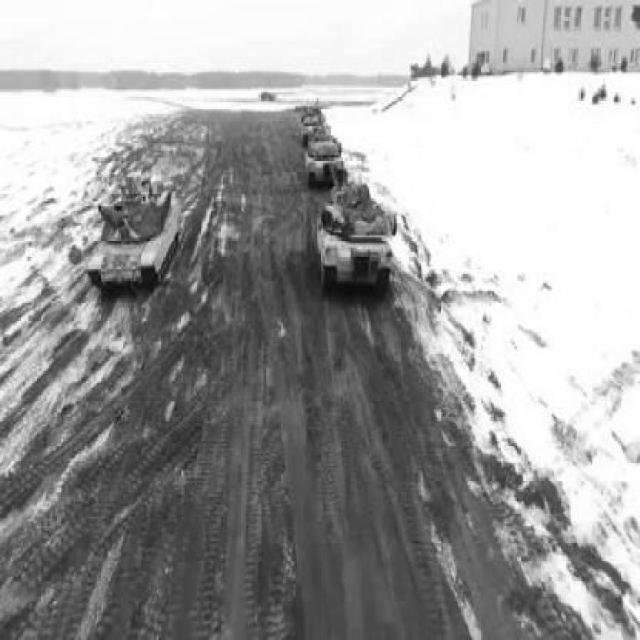Tank: (94, 175, 183, 299), (319, 183, 401, 303), (307, 131, 347, 194)
